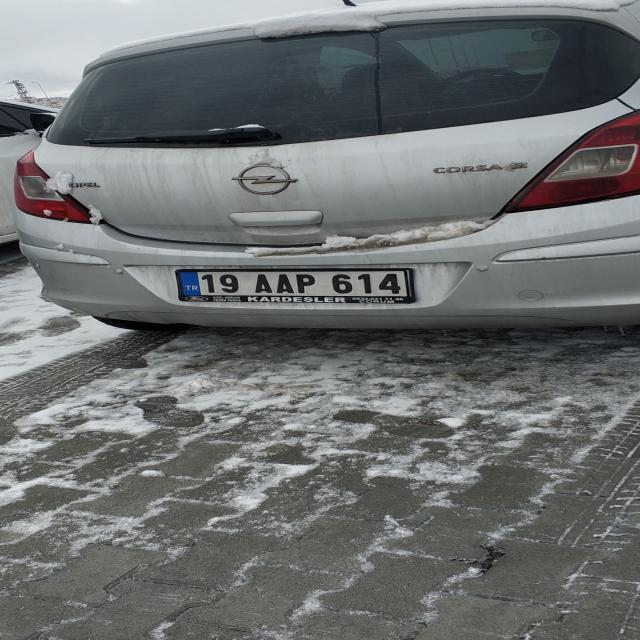plate: (177, 270, 409, 297)
